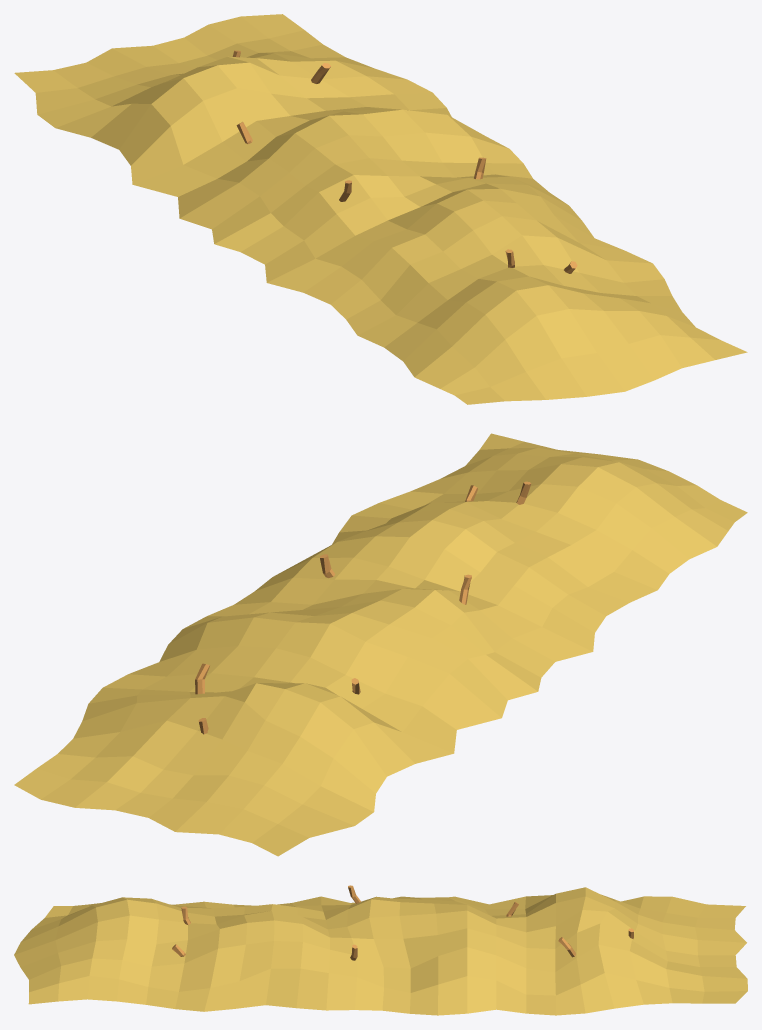
File: sandpuddle01.fbx
3 views of the same model, one above another, from view 1: azimuth 30°, elevation 25°; view 2: azimuth 150°, elevation 25°; view 3: azimuth 270°, elevation 25° (orthographic). The views are drawn at different scales.
Parts seen in each view (by area): view 1: Circle.005; view 2: Circle.005; view 3: Circle.005.
Boxes of the visible parts, <box> form: Circle.005: <box>14,14,747,404</box>; Circle.005: <box>14,433,747,856</box>; Circle.005: <box>14,885,747,1015</box>.
Size of the model in its own units: 2.48 by 0.4703 by 6.45.
